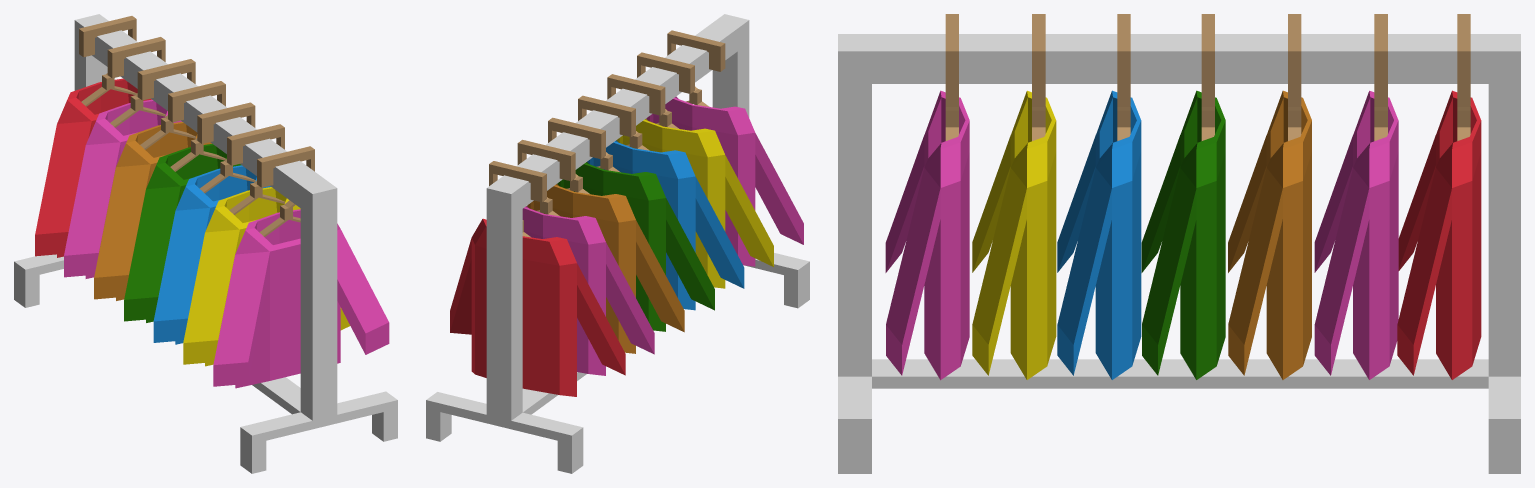
Rendered from Clothes  Rack.fbx.
The picture shows the model from 3 angles, left to right: view 1: azimuth 30°, elevation 25°; view 2: azimuth 150°, elevation 25°; view 3: azimuth 270°, elevation 25°; orthographic projection. The views are drawn at different scales.
Visible parts, largest first — view 1: Plane.060, Cylinder, Cylinder.001, Cylinder.005, Cylinder.004, Cylinder.002, Cylinder.003, Cylinder.006; view 2: Plane.060, Cylinder.006, Cylinder, Cylinder.003, Cylinder.004, Cylinder.005, Cylinder.002, Cylinder.001; view 3: Plane.060, Cylinder.001, Cylinder.002, Cylinder.005, Cylinder.006, Cylinder.003, Cylinder, Cylinder.004.
Boxes of the visible parts, left/top/right/bottom form: Plane.060: left=14, top=14, right=397, bottom=473; Cylinder: left=213, top=146, right=389, bottom=388; Cylinder.001: left=183, top=124, right=350, bottom=366; Cylinder.005: left=64, top=37, right=181, bottom=278; Cylinder.004: left=94, top=59, right=211, bottom=300; Cylinder.002: left=153, top=102, right=270, bottom=344; Cylinder.003: left=124, top=81, right=241, bottom=322; Cylinder.006: left=35, top=16, right=151, bottom=257; Plane.060: left=426, top=14, right=809, bottom=473; Cylinder.006: left=450, top=161, right=625, bottom=396; Cylinder: left=646, top=30, right=803, bottom=266; Cylinder.003: left=557, top=95, right=714, bottom=331; Cylinder.004: left=527, top=117, right=684, bottom=353; Cylinder.005: left=517, top=139, right=654, bottom=375; Cylinder.002: left=587, top=74, right=744, bottom=310; Cylinder.001: left=616, top=52, right=773, bottom=288; Plane.060: left=838, top=34, right=1520, bottom=473; Cylinder.001: left=972, top=14, right=1056, bottom=379; Cylinder.002: left=1057, top=14, right=1141, bottom=379; Cylinder.005: left=1314, top=14, right=1398, bottom=379; Cylinder.006: left=1397, top=14, right=1481, bottom=379; Cylinder.003: left=1141, top=14, right=1225, bottom=379; Cylinder: left=885, top=14, right=969, bottom=380; Cylinder.004: left=1228, top=14, right=1311, bottom=379.
Size of the model in its own units: 85.39 by 126 by 200.
